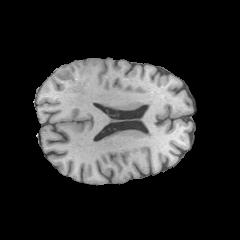glioma: (57, 65, 86, 97)
